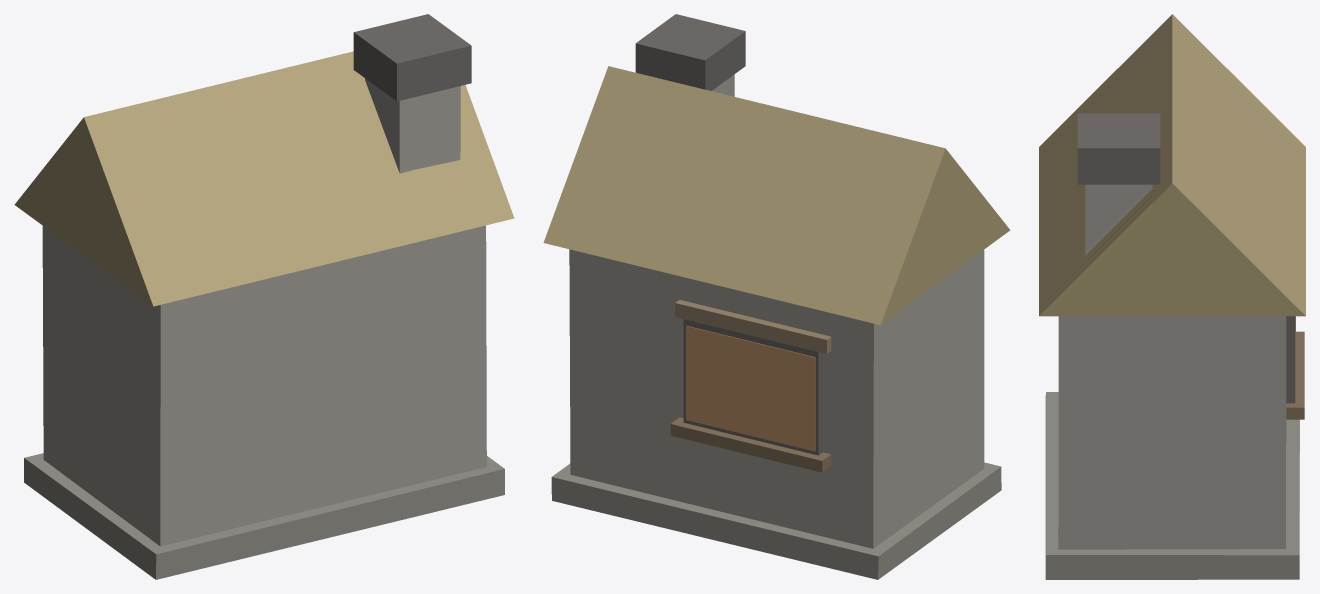
Rendered from kitchen_hearth.glb.
3 views of the same model, side by side, from view 1: azimuth 30°, elevation 25°; view 2: azimuth 150°, elevation 25°; view 3: azimuth 270°, elevation 25° (orthographic). The views are drawn at different scales.
Visible parts, largest first — view 1: kitchen_hearth; view 2: kitchen_hearth; view 3: kitchen_hearth.
Boxes of the visible parts, x1,y1,x2,y2 form: kitchen_hearth: (14,14,514,579); kitchen_hearth: (543,14,1010,579); kitchen_hearth: (1039,14,1305,579).
Bounding box in the file's own units: 3 × 3.5 × 2.
